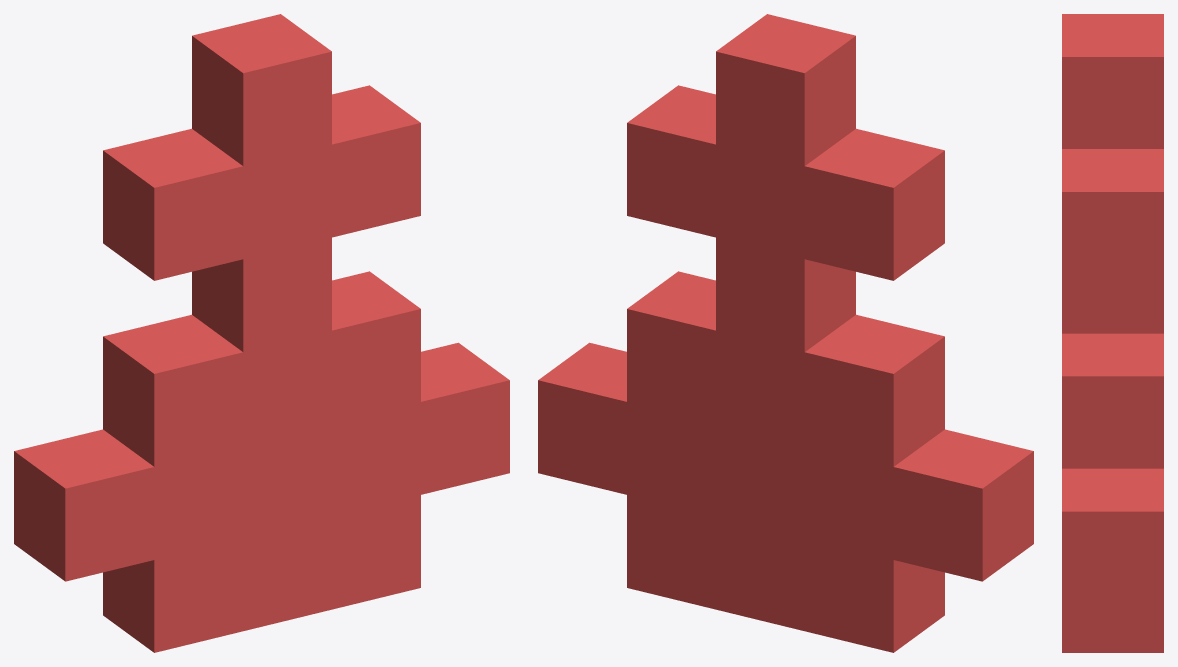
Rendered from Potion-Small-Pink.vox.obj.
3 renders of one model, left to right at view 1: azimuth 30°, elevation 25°; view 2: azimuth 150°, elevation 25°; view 3: azimuth 270°, elevation 25°, orthographic.
Size of the model in its own units: 0.5 by 0.6 by 0.1.
1 material, 1 textured.
